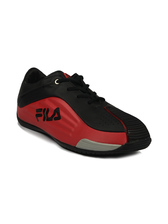shoes: (15, 62, 156, 158)
